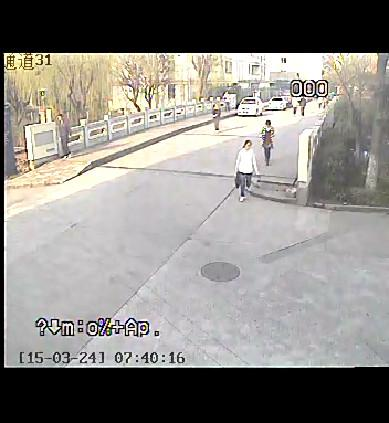person: (232, 137, 262, 206), (258, 113, 281, 166), (204, 94, 226, 133), (294, 94, 308, 118), (291, 91, 301, 120)
